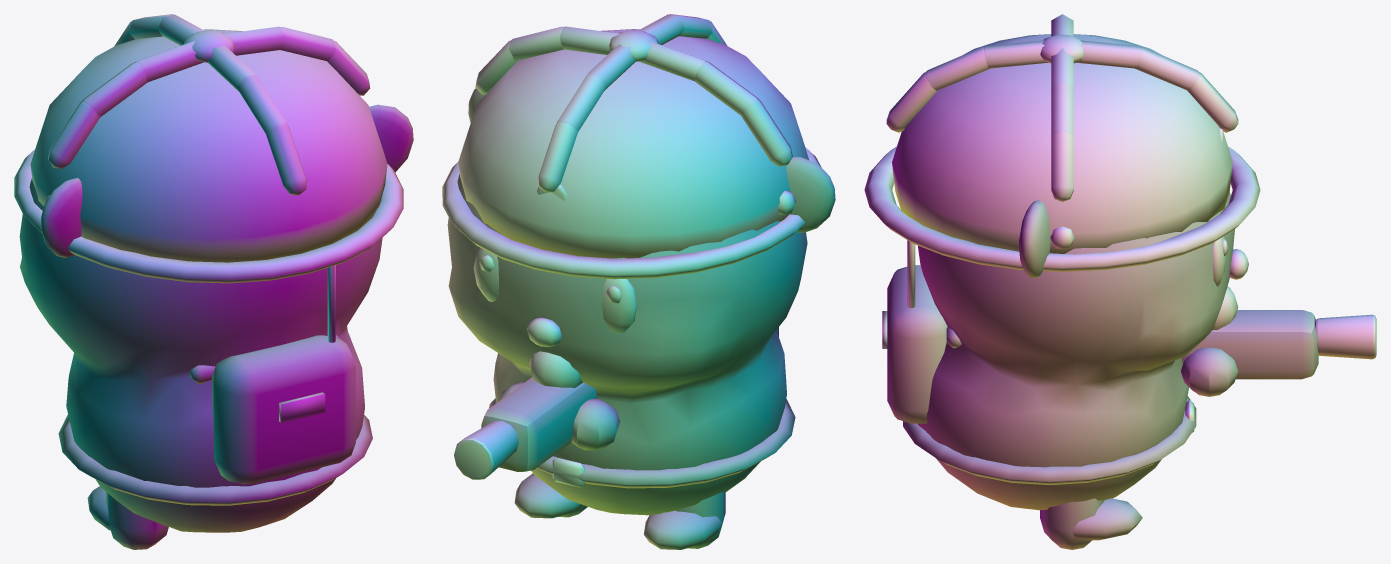
File: unit_minion.glb
3 renders of one model, left to right at view 1: azimuth 30°, elevation 25°; view 2: azimuth 150°, elevation 25°; view 3: azimuth 270°, elevation 25°, orthographic. The views are drawn at different scales.
Parts seen in each view (by area): view 1: body, leg_L; view 2: body, gun, leg_L, leg_R; view 3: body, gun, leg_R.
Boxes of the visible parts, <box> form: body: <box>14,14,413,532</box>; leg_L: <box>87,486,168,549</box>; body: <box>442,14,835,515</box>; gun: <box>454,351,620,479</box>; leg_L: <box>644,492,725,549</box>; leg_R: <box>514,473,587,518</box>; body: <box>864,14,1260,510</box>; gun: <box>1181,286,1376,396</box>; leg_R: <box>1040,498,1142,549</box>.
Size of the model in its own units: 0.1985 by 0.2558 by 0.2483.
